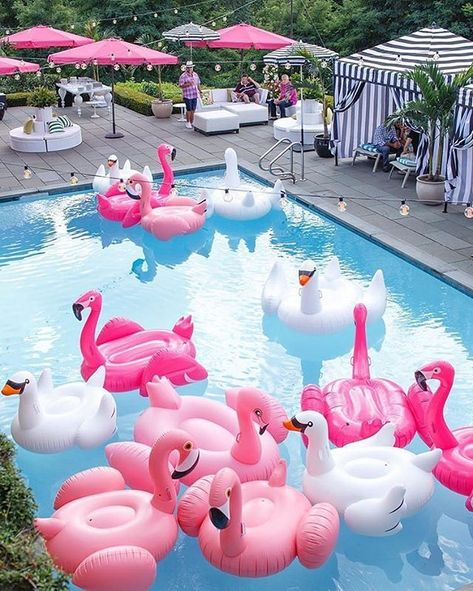Flamingo: (36, 430, 201, 591), (177, 456, 341, 581), (69, 288, 210, 396), (125, 173, 210, 241)
